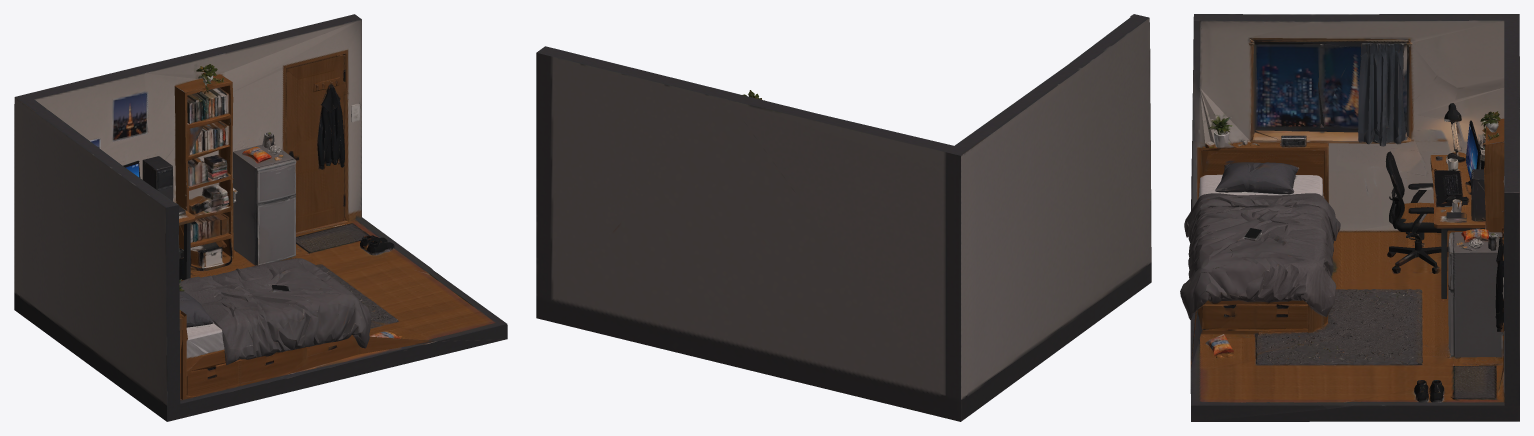
The model's file is room.glb.
3 views of the same model, side by side, from view 1: azimuth 30°, elevation 25°; view 2: azimuth 150°, elevation 25°; view 3: azimuth 270°, elevation 25° (orthographic). The views are drawn at different scales.
Parts seen in each view (by area): view 1: Mesh_0; view 2: Mesh_0; view 3: Mesh_0.
Boxes of the visible parts, <box> form: Mesh_0: <box>14,14,507,421</box>; Mesh_0: <box>536,14,1151,421</box>; Mesh_0: <box>1180,14,1519,421</box>.
Bounding box in the file's own units: 1.9 × 1.14 × 1.53.
Materials: 1 (1 with a texture image).
